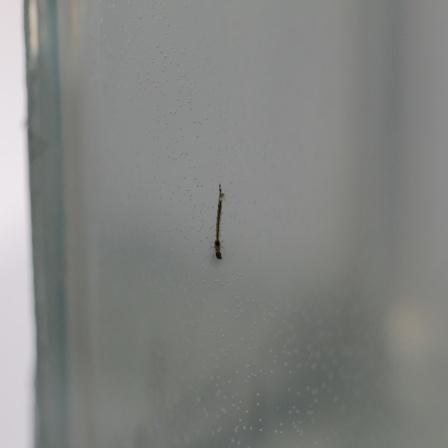Jentik-Nyamuk: (209, 180, 228, 264)
